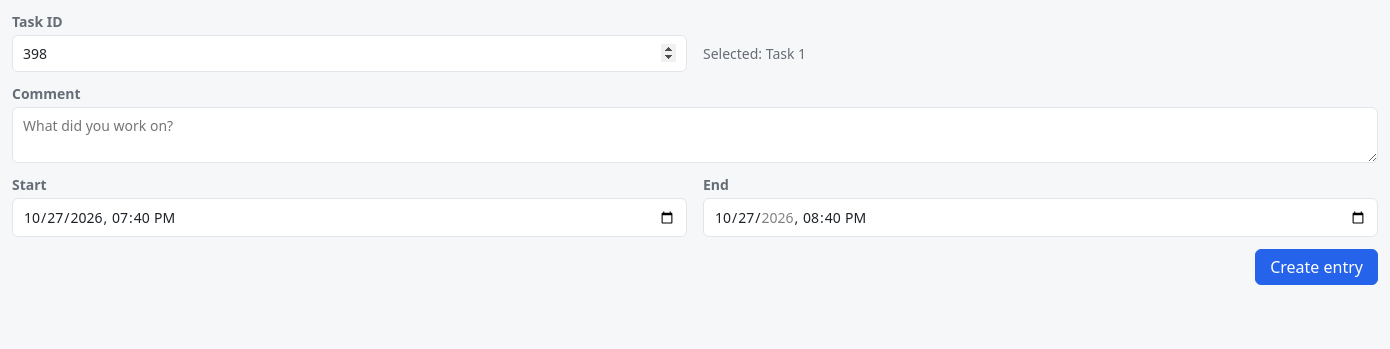
Test: TimeEntryForm › creates an entry and shows its id
Type "Meeting" into the text box labelled "Comment" at x=695, y=135, box 12,107 -> 1378,163
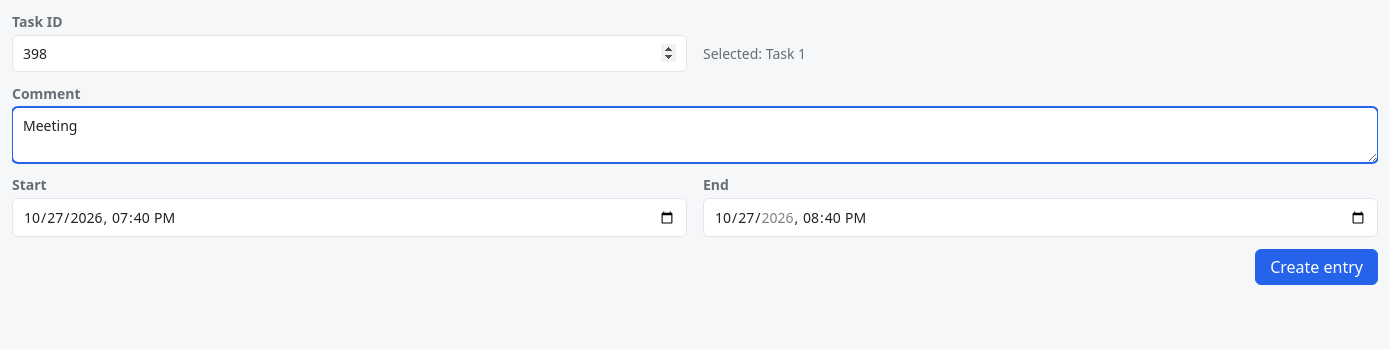
Click the button "Create entry" at x=1317, y=267, box 1255,249 -> 1378,285
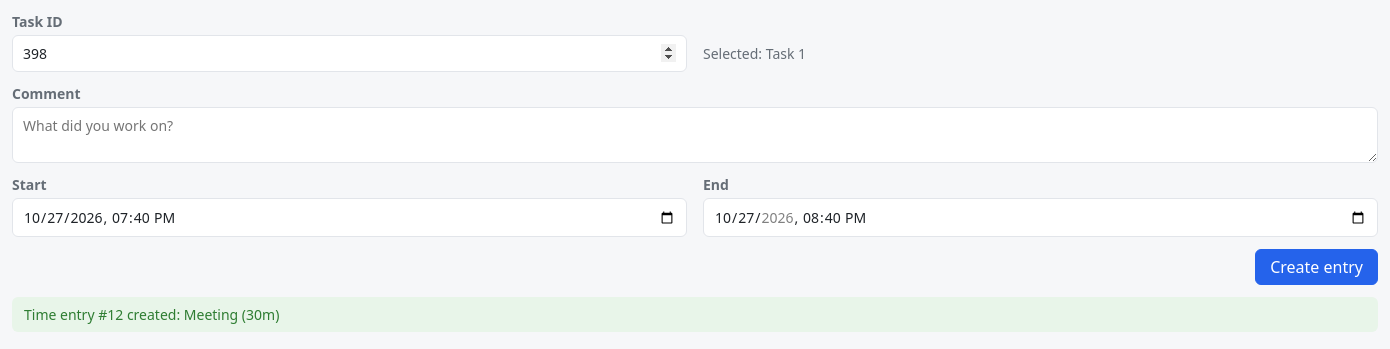
Expected: the message shows "Time entry #12 created", 24,305 -> 279,324
